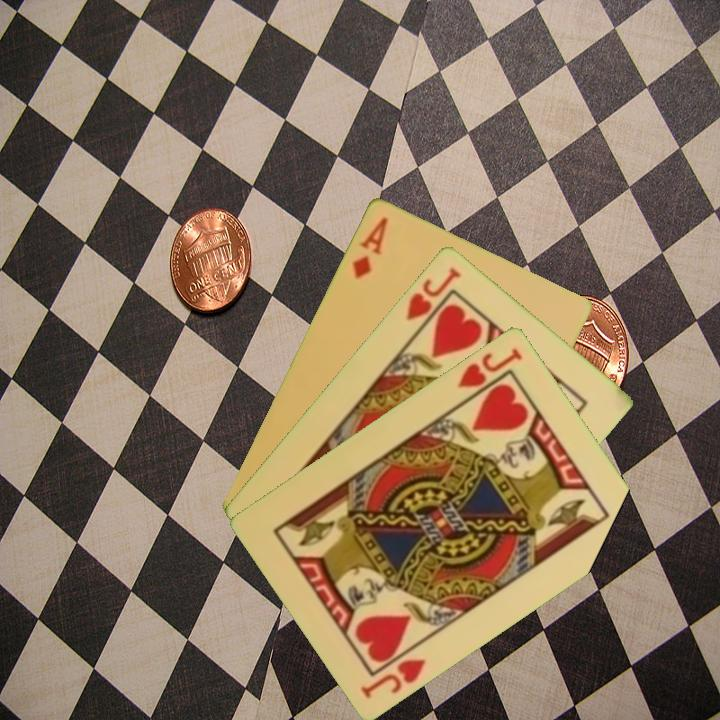Ad: (348, 213, 391, 282)
Jh: (402, 263, 464, 337), (357, 654, 430, 701), (454, 343, 525, 391)
